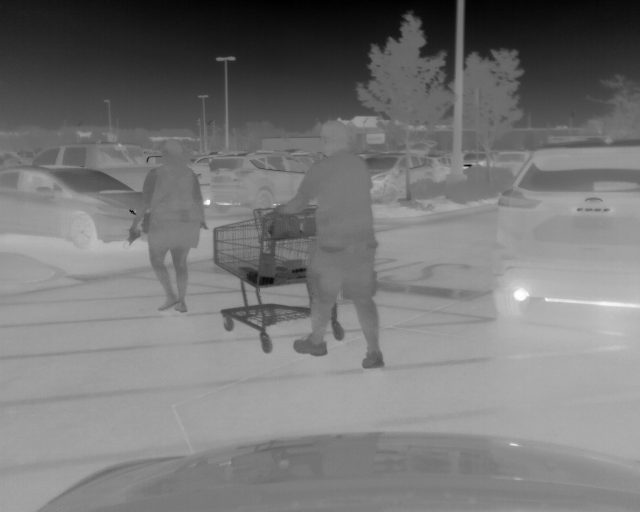car: (488, 139, 640, 320), (1, 165, 143, 247), (26, 144, 212, 203), (206, 154, 316, 211), (361, 155, 444, 200), (490, 150, 534, 182), (449, 151, 489, 177)
people: (281, 118, 384, 368), (134, 140, 210, 316)
